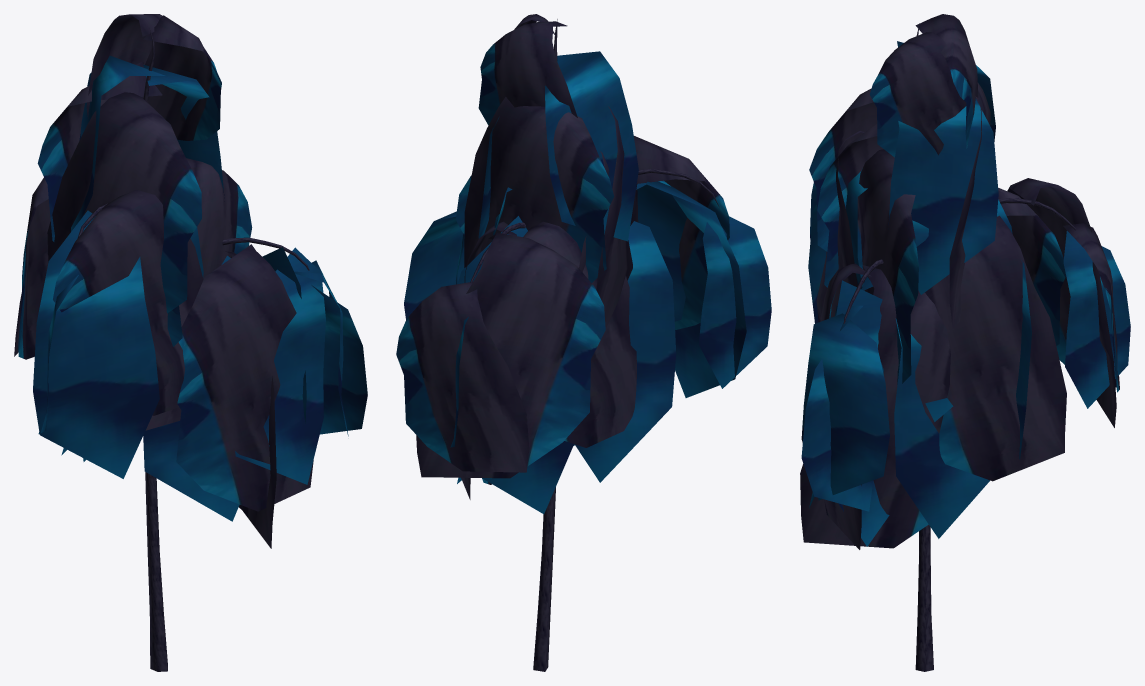
3 renders of one model, left to right at view 1: azimuth 30°, elevation 25°; view 2: azimuth 150°, elevation 25°; view 3: azimuth 270°, elevation 25°, orthographic.
Visible parts, largest first — view 1: SM_FH_ThornVines_03_LOD0; view 2: SM_FH_ThornVines_03_LOD0; view 3: SM_FH_ThornVines_03_LOD0.
Boxes of the visible parts, x1=… form: SM_FH_ThornVines_03_LOD0: x1=14, y1=14, x2=367, y2=671; SM_FH_ThornVines_03_LOD0: x1=396, y1=14, x2=771, y2=671; SM_FH_ThornVines_03_LOD0: x1=800, y1=14, x2=1130, y2=671.
Bounding box in the file's own units: 1.31 × 2.51 × 1.17.
